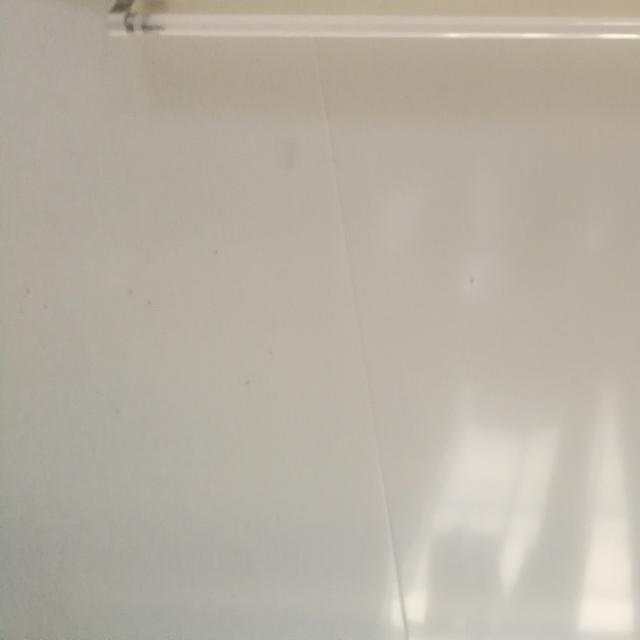fluorescent tube: (84, 0, 640, 149)
